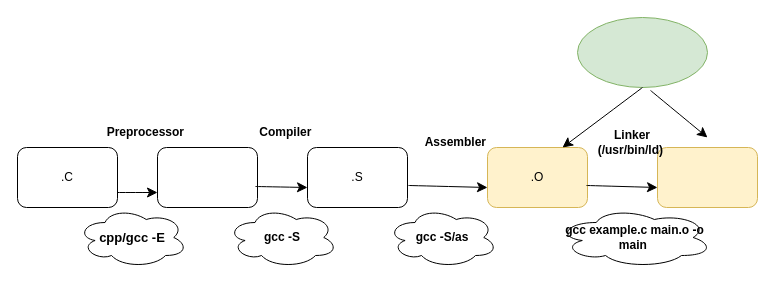
The diagram is 775 pixels wide and 285 high, and some of its shapes have lost their labels. The shapes that lost their labels are listed below. From the top down, each one's centre as x and y in pixels, then its label:
pixel 642 52: ELF :Executable and Linkable Format
pixel 207 177: .I
pixel 707 177: Executable file
